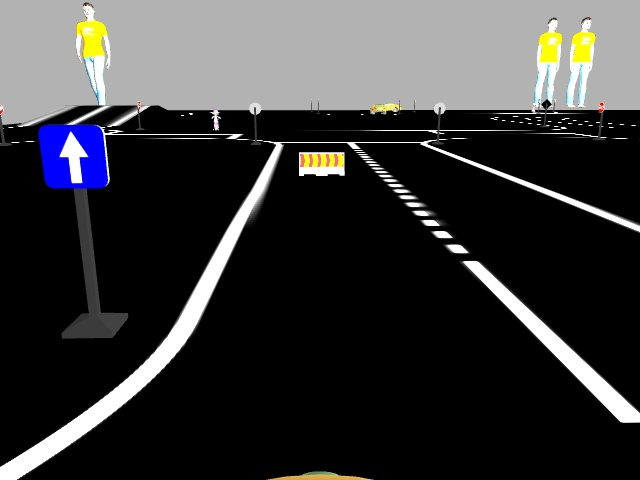ClosedRoadStand: (299, 153, 345, 178)
OneWay: (41, 125, 112, 185)
